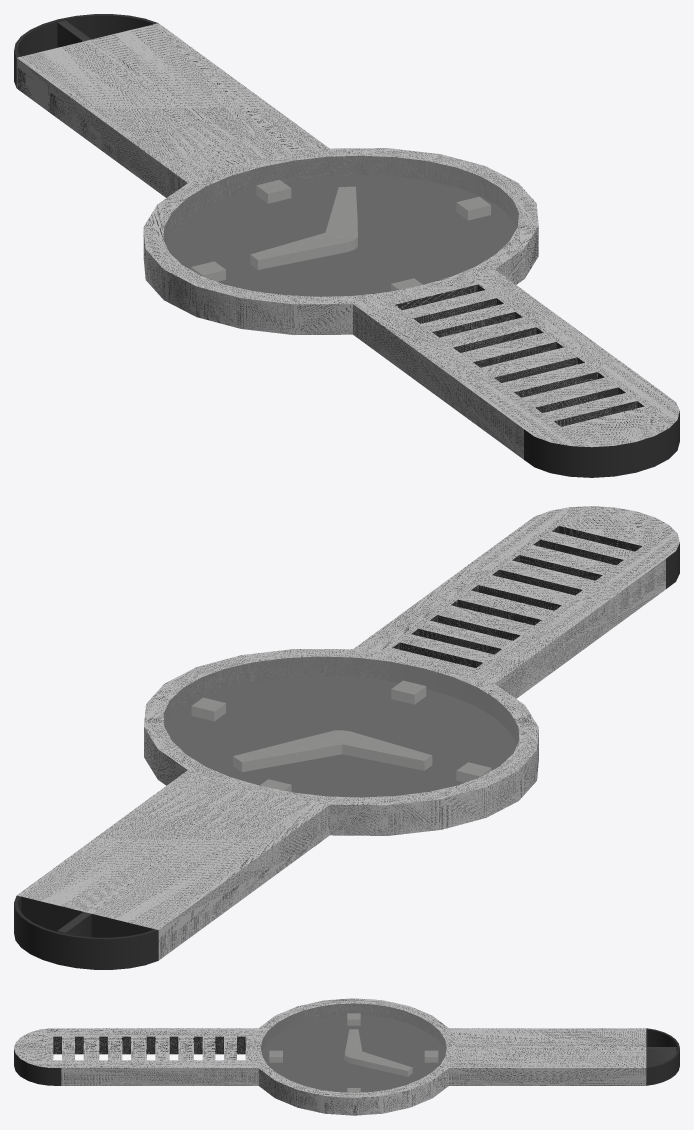
The model's file is handwatch.dae.
3 renders of one model, top to bottom at view 1: azimuth 30°, elevation 25°; view 2: azimuth 150°, elevation 25°; view 3: azimuth 270°, elevation 25°, orthographic. The views are drawn at different scales.
Visible parts, largest first — view 1: instance_0; view 2: instance_0; view 3: instance_0.
Boxes of the visible parts, <box> form: instance_0: <box>14,14,679,477</box>; instance_0: <box>14,506,679,969</box>; instance_0: <box>14,998,679,1115</box>.
Bounding box in the file's own units: 8.03 × 22.65 × 0.665.
